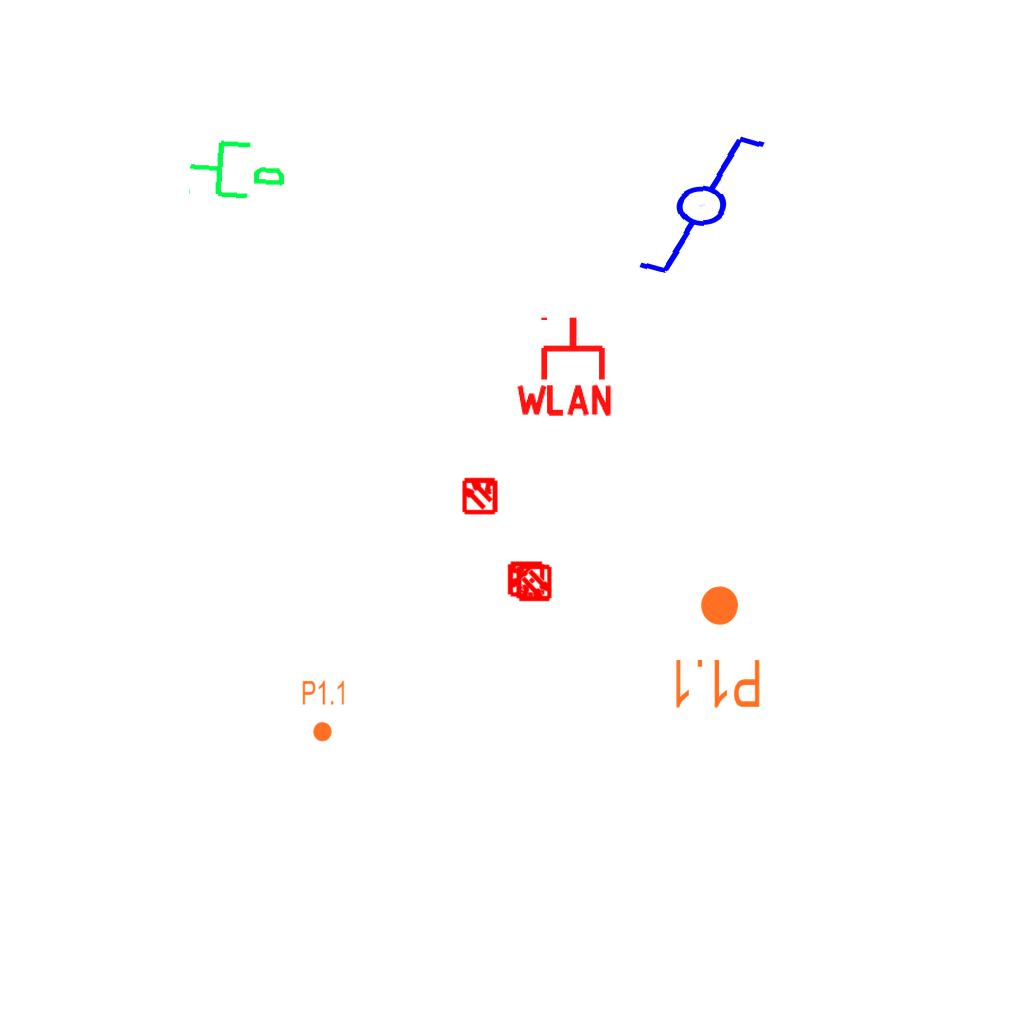Datenanschluss_einfach: (185, 130, 290, 206)
Downlight_LED_Einbauleuchten_Flur: (670, 583, 763, 711), (301, 679, 347, 743)
OT_Multisensormelder_(Kombination_RMO_WMD): (497, 551, 553, 607), (452, 467, 508, 523), (506, 556, 562, 612)
WLAN: (512, 313, 616, 418)
Wechselschalter: (611, 127, 776, 281)
